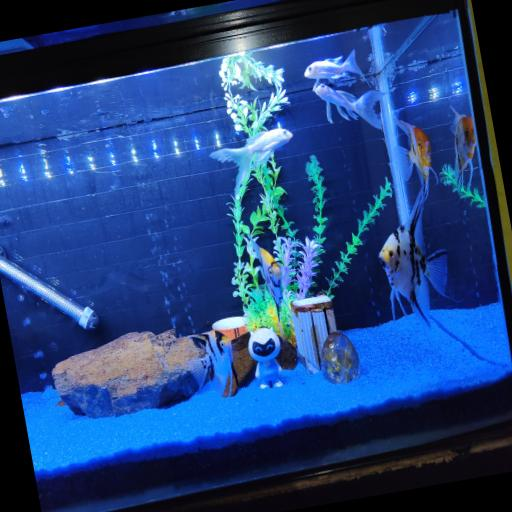Fish: (378, 185, 446, 342), (209, 129, 291, 196), (247, 235, 285, 343), (186, 331, 238, 395), (394, 119, 437, 195), (314, 84, 383, 128), (304, 51, 370, 87), (450, 107, 475, 194)
